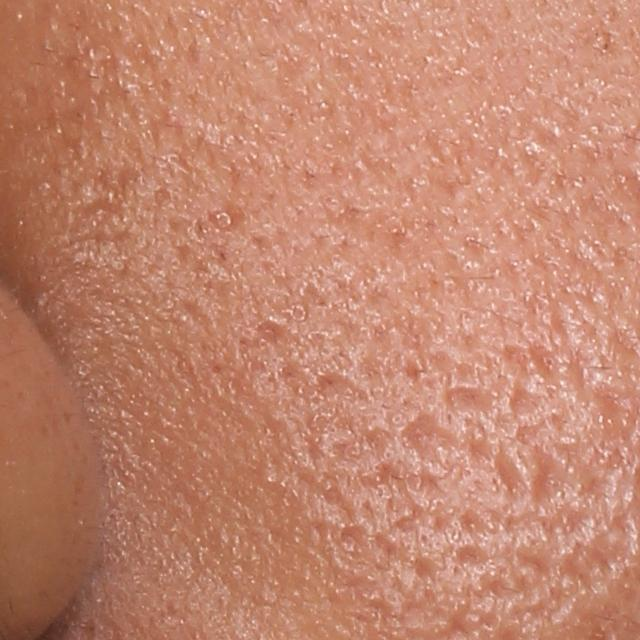atrophic_scar: (398, 407, 469, 474), (529, 442, 585, 517), (493, 440, 532, 499), (441, 383, 499, 416), (255, 318, 299, 359), (509, 379, 548, 420), (456, 546, 492, 572)
comedo: (211, 206, 234, 232)
